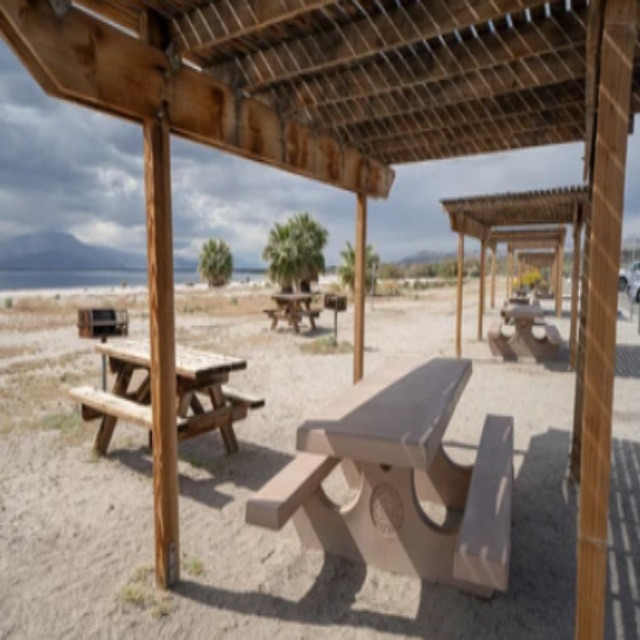obstacle: (246, 348, 521, 627), (75, 332, 266, 492), (486, 301, 563, 372)
